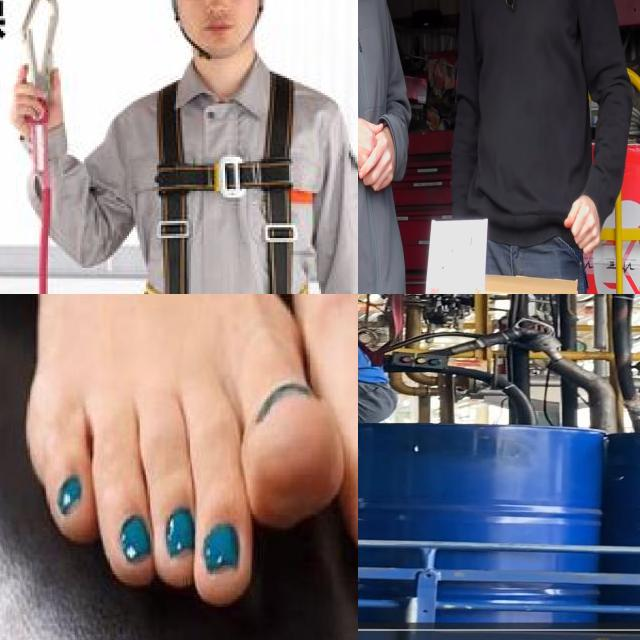Barefoots: (20, 294, 354, 640)
Harness: (127, 67, 332, 294)
